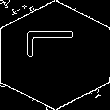L_E: (26, 40, 84, 70)
